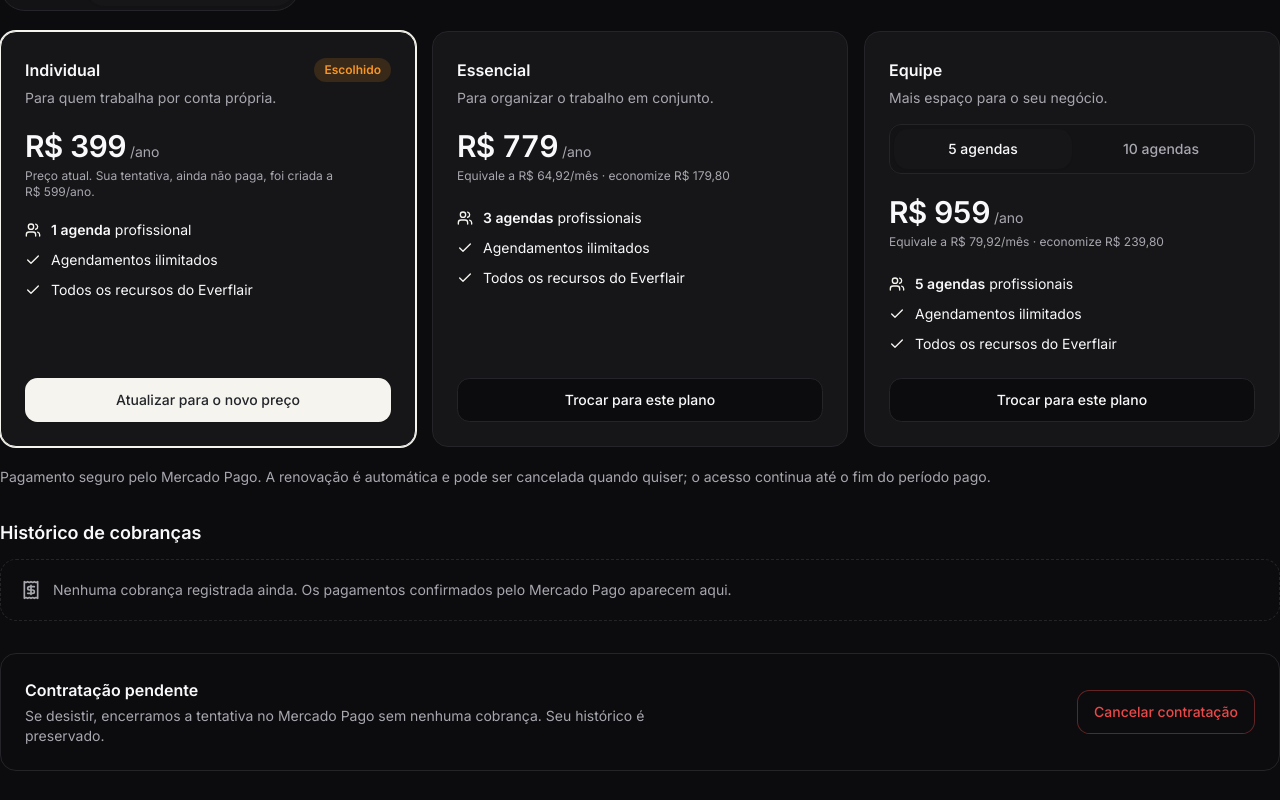
it: contratos criados com preço anterior ao catálogo 2026-10-02 (variações F1/F2) › F1 anual: tentativa não paga do Individual anual criada a R$ 599 aparece 'Escolhido' a R$ 399 e oferece 'Atualizar para o novo preço', nunca o checkout antigo
(page scrolled)
Expected: the text "Escolhido" is shown, x1=314 y1=58 x2=391 y2=82
Click the button with aria-label "Atualizar para o novo preço: Individual".
click(208, 400)  # box x1=25 y1=378 x2=391 y2=422
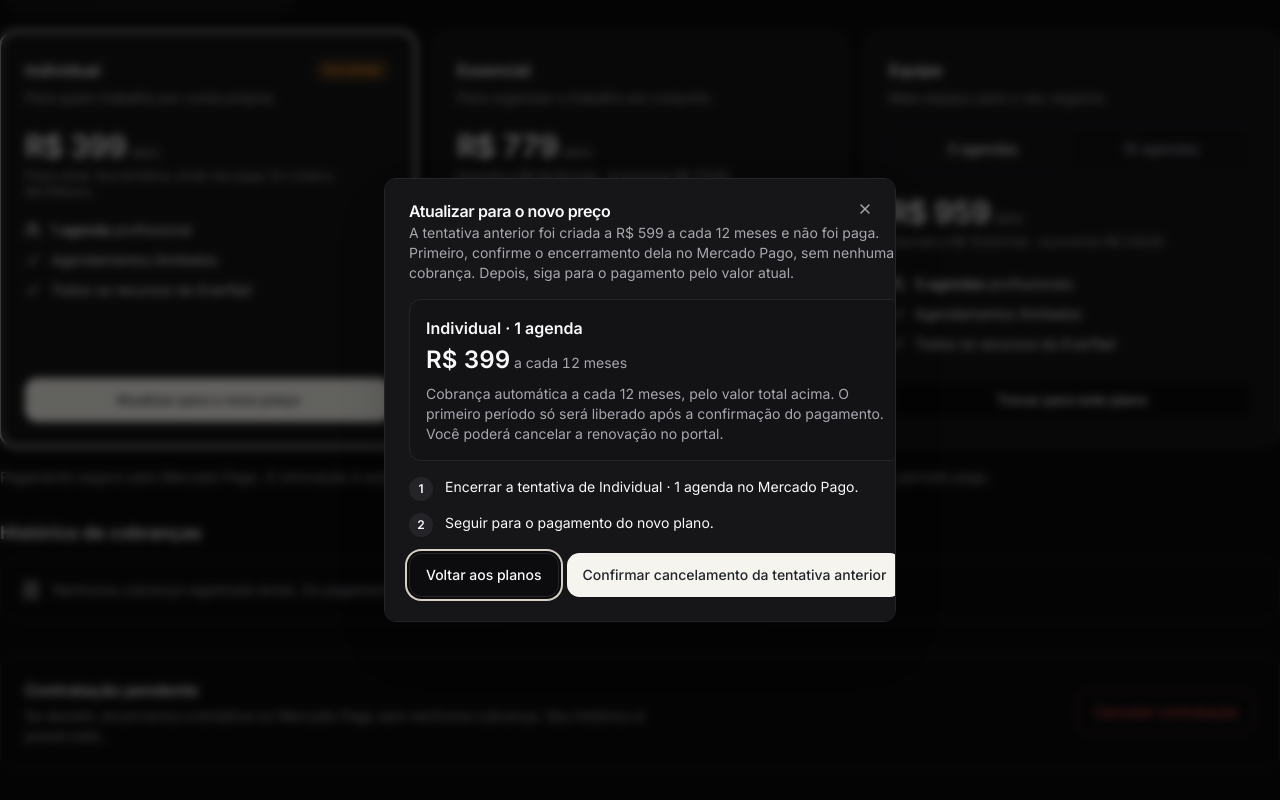
Now the dialog "Atualizar para o novo preço" shows "A tentativa anterior foi criada a R$ 599 a cada 12 meses e não foi paga.", box x1=409 y1=224 x2=894 y2=281
